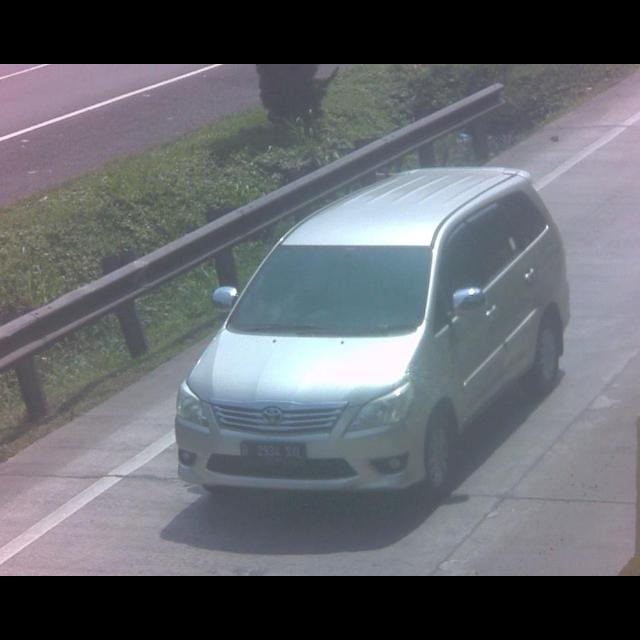plate: (238, 439, 306, 467)
